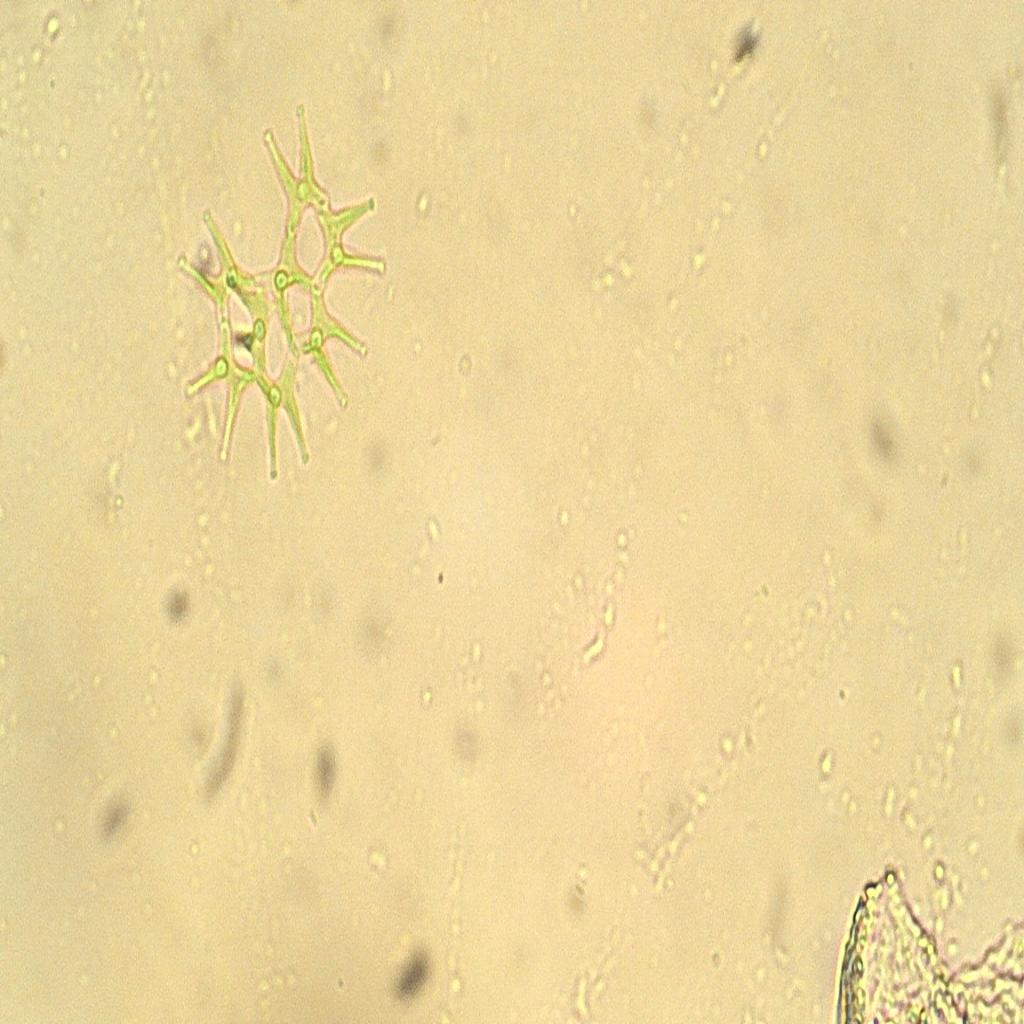Pediastrum_CFI: (167, 89, 396, 501)
